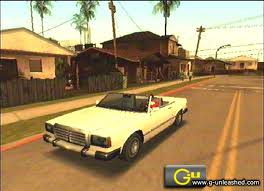car: (45, 94, 189, 161)
